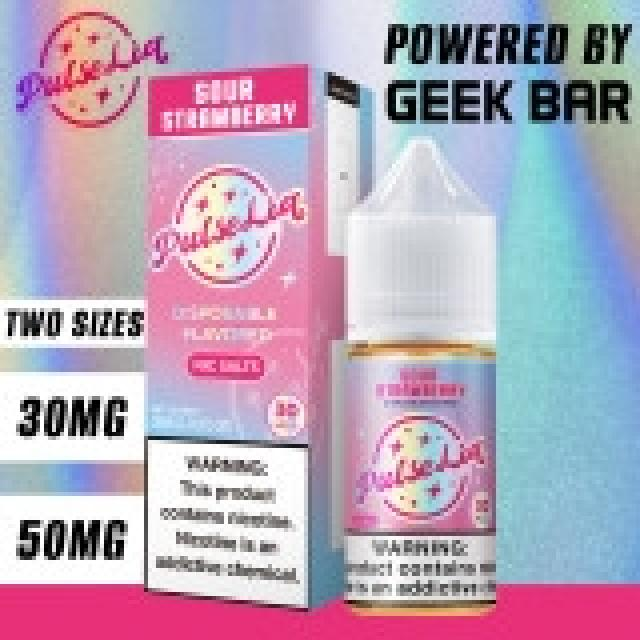Vape-images: (332, 132, 500, 616)
